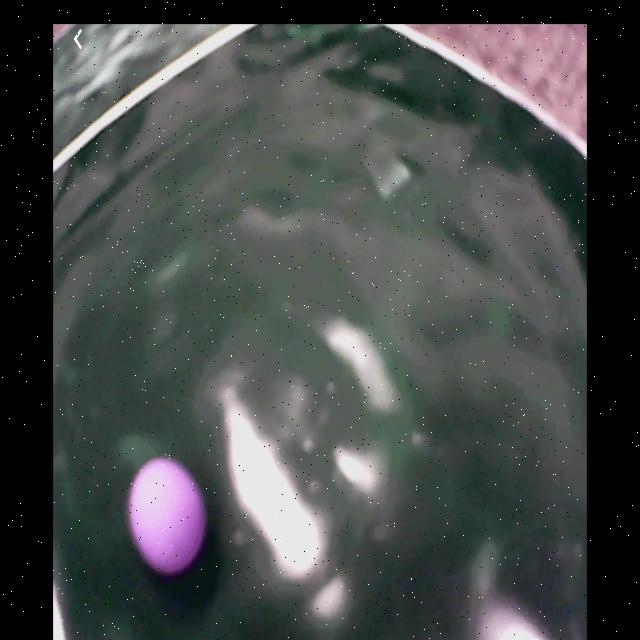ball: (128, 455, 208, 581)
